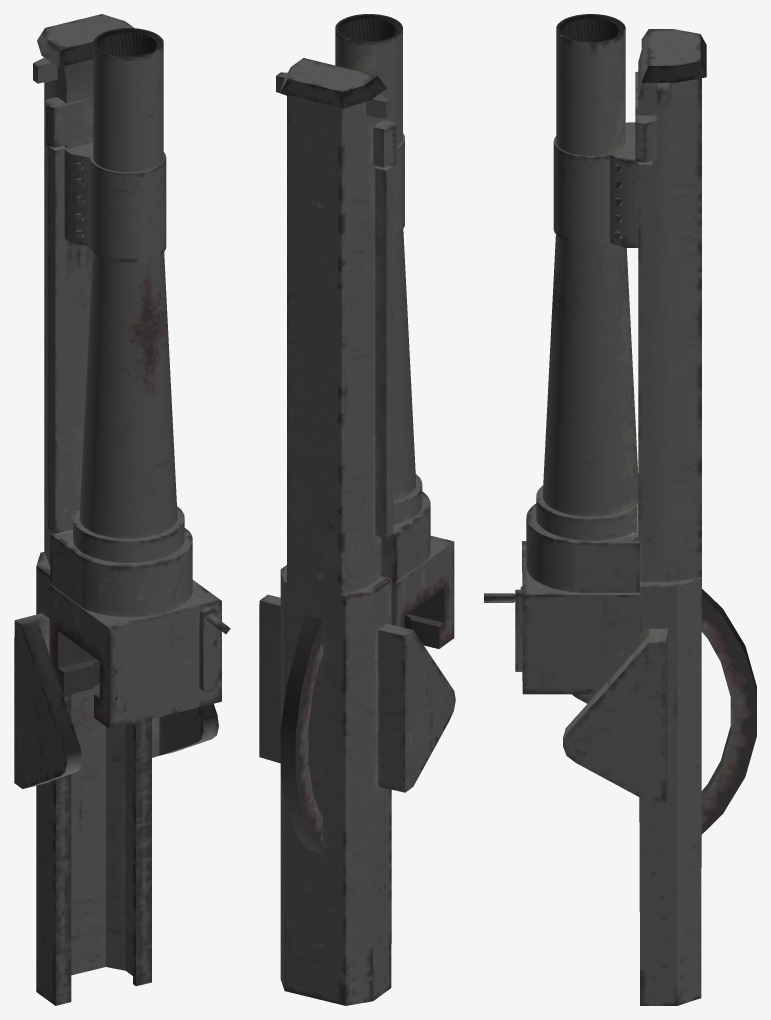
Rendered from Gun_01.glb.
3 views of the same model, side by side, from view 1: azimuth 30°, elevation 25°; view 2: azimuth 150°, elevation 25°; view 3: azimuth 270°, elevation 25° (orthographic). The views are drawn at different scales.
Visible parts, largest first — view 1: set_0_group_0; view 2: set_0_group_0; view 3: set_0_group_0.
Boxes of the visible parts, x1,y1,x2,y2 form: set_0_group_0: [14, 14, 230, 1005]; set_0_group_0: [259, 14, 455, 1005]; set_0_group_0: [484, 14, 756, 1005].
Bounding box in the file's own units: 0.4522 × 2.75 × 0.7138.
1 material, 1 textured.
